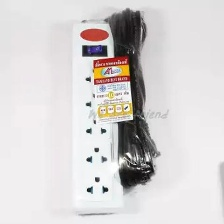three_eye_plug: (68, 14, 127, 216)
